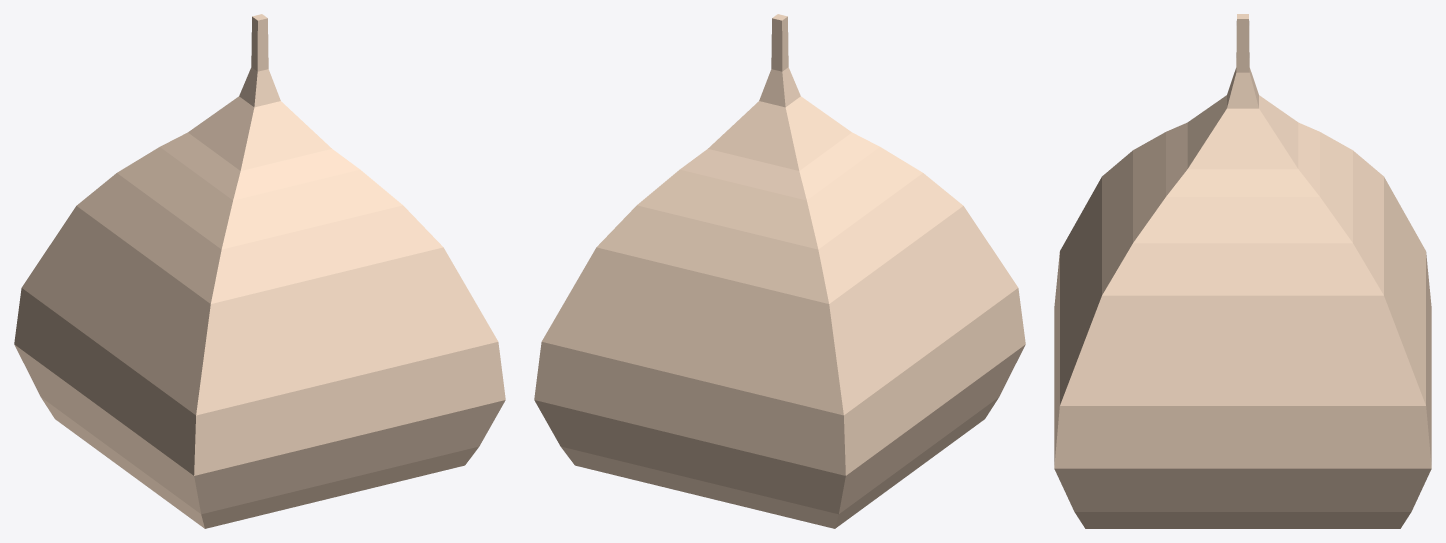
File: Abstract_Castle_Block_TempleTopLarge_Cream_02.fbx
The picture shows the model from 3 angles, left to right: view 1: azimuth 30°, elevation 25°; view 2: azimuth 150°, elevation 25°; view 3: azimuth 270°, elevation 25°; orthographic projection. The views are drawn at different scales.
Visible parts, largest first — view 1: Model; view 2: Model; view 3: Model.
Part boxes in pixels (box(x1,y1,x2,y2)): Model: box(14, 14, 505, 528); Model: box(534, 14, 1025, 528); Model: box(1054, 14, 1431, 528).
Bounding box in the file's own units: 1198 × 1561 × 1198.
